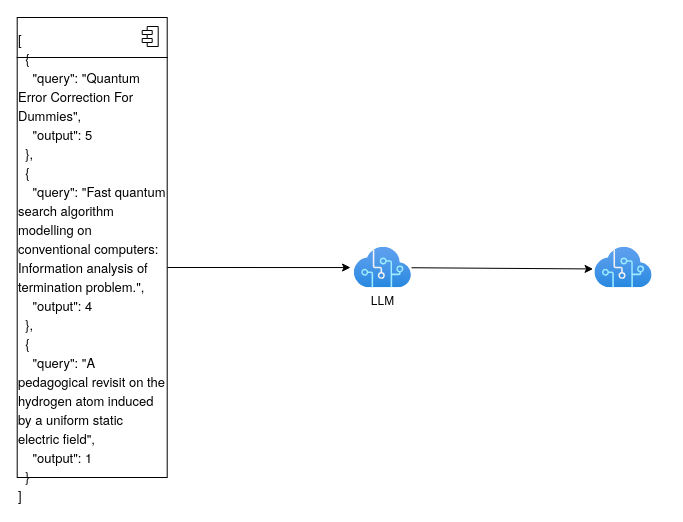
Some shapes in this 683 by 522 pixel diagram are drawn without their labels. Here are the shapes that lost their labels. From the top down, the centre of each, then its label:
At (x=91, y=37): "Fine tuning data".
At (x=623, y=267): "Fine tuned LLM".
